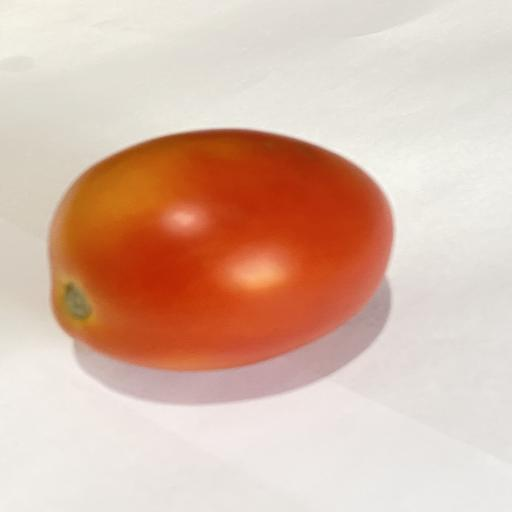ripe: (49, 129, 393, 370)
